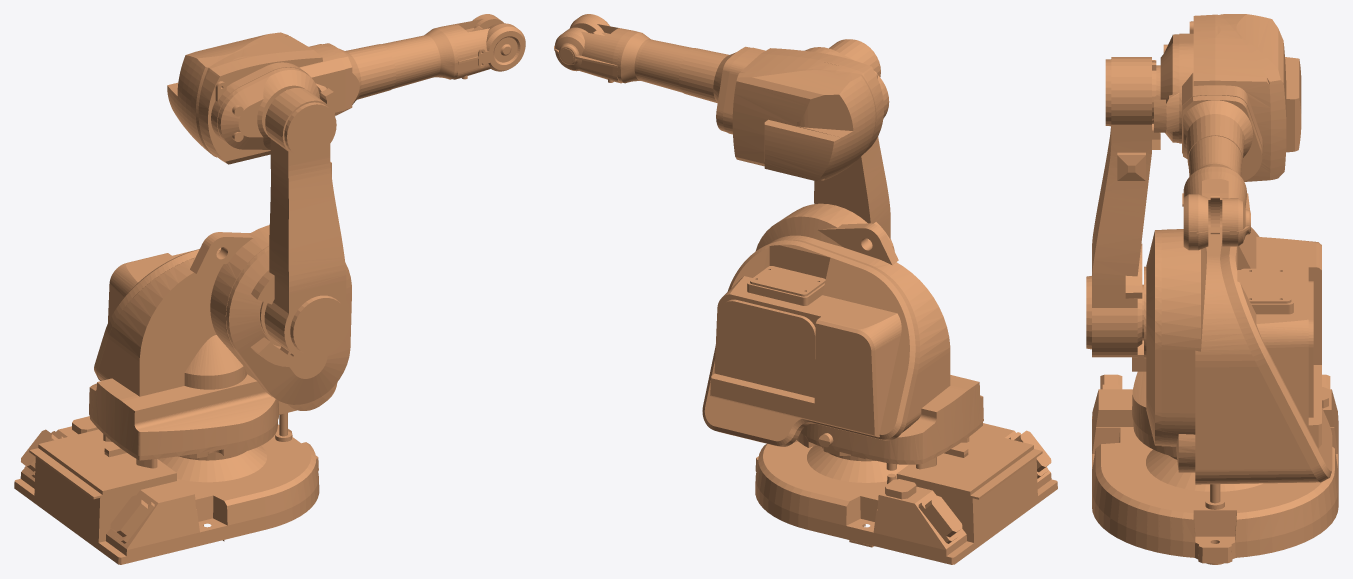
The model's file is robot.glb.
3 views of the same model, side by side, from view 1: azimuth 30°, elevation 25°; view 2: azimuth 150°, elevation 25°; view 3: azimuth 270°, elevation 25° (orthographic). The views are drawn at different scales.
Parts seen in each view (by area): view 1: link_1, base_link, link_2, link_3, link_4; view 2: link_1, base_link, link_3, link_4, link_2; view 3: link_1, base_link, link_3, link_2, link_4.
Part boxes in pixels (x1=…): link_1: x1=89, y1=225, x2=351, y2=468; base_link: x1=14, y1=413, x2=319, y2=564; link_2: x1=251, y1=88, x2=350, y2=360; link_3: x1=167, y1=32, x2=396, y2=164; link_4: x1=381, y1=14, x2=525, y2=88; link_1: x1=702, y1=203, x2=983, y2=470; base_link: x1=755, y1=423, x2=1057, y2=564; link_3: x1=679, y1=46, x2=889, y2=181; link_4: x1=554, y1=14, x2=693, y2=92; link_2: x1=814, y1=39, x2=894, y2=251; link_1: x1=1132, y1=227, x2=1332, y2=484; base_link: x1=1092, y1=374, x2=1338, y2=564; link_3: x1=1154, y1=14, x2=1301, y2=181; link_2: x1=1086, y1=57, x2=1160, y2=357; link_4: x1=1182, y1=136, x2=1250, y2=250.
Size of the model in its own units: 1.19 by 1.07 by 0.4943.
